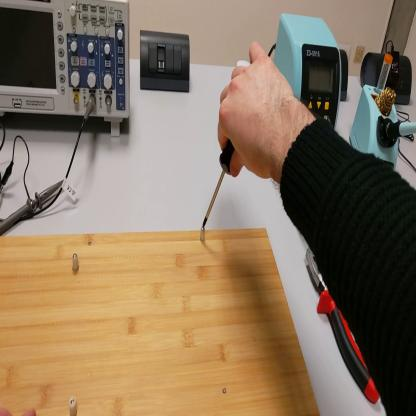hand: (217, 43, 297, 186)
oscilloscope: (2, 2, 131, 138)
oscilloscope probe tip: (3, 179, 68, 236)
pliers: (306, 247, 384, 405)
screwdriver-: (203, 138, 236, 228)
socket: (362, 49, 414, 106), (341, 52, 352, 104)
welder base: (350, 47, 399, 171)
welder probe tip: (389, 121, 416, 141)
welder station: (274, 13, 343, 134)
working area: (2, 226, 321, 416)
